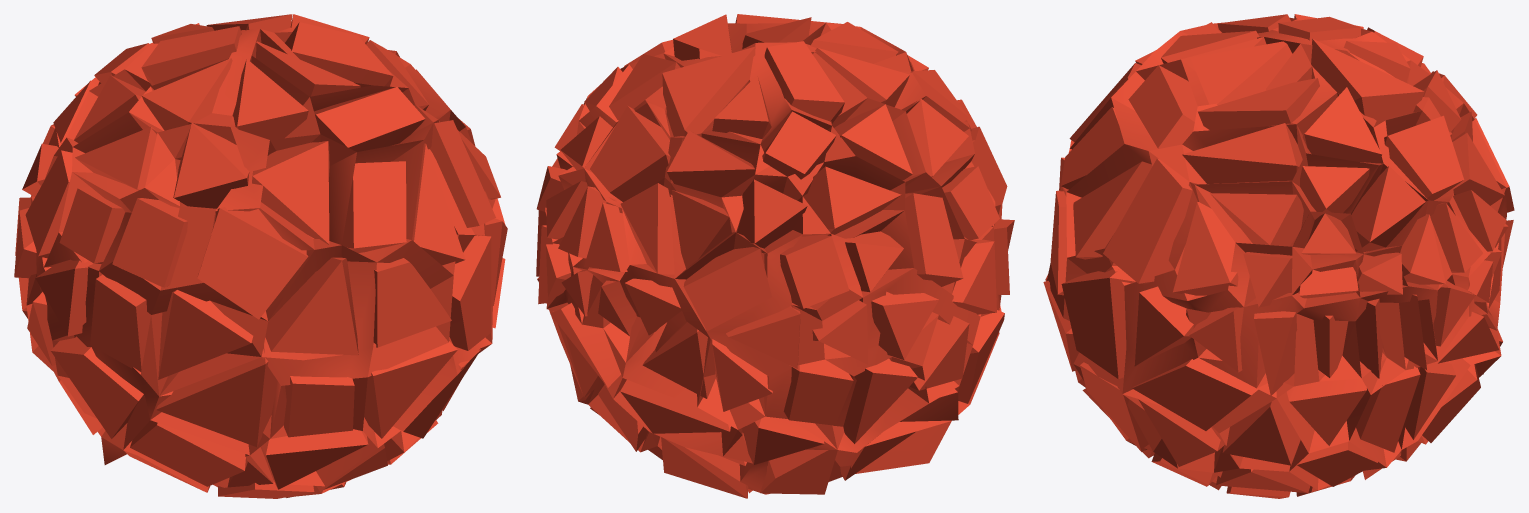
The picture shows the model from 3 angles, left to right: view 1: azimuth 30°, elevation 25°; view 2: azimuth 150°, elevation 25°; view 3: azimuth 270°, elevation 25°; orthographic projection.
Parts seen in each view (by area): view 1: Organic_12; view 2: Organic_12; view 3: Organic_12.
Boxes of the visible parts, x1,y1,x2,y2 form: Organic_12: (14, 14, 507, 498); Organic_12: (536, 14, 1014, 498); Organic_12: (1043, 14, 1514, 498).
Size of the model in its own units: 220 by 218 by 214.
Materials: 1 (1 with a texture image).
